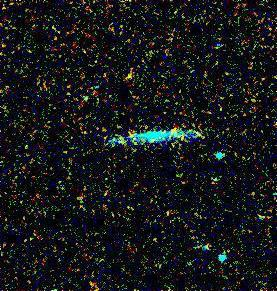star: (161, 116, 191, 146)
